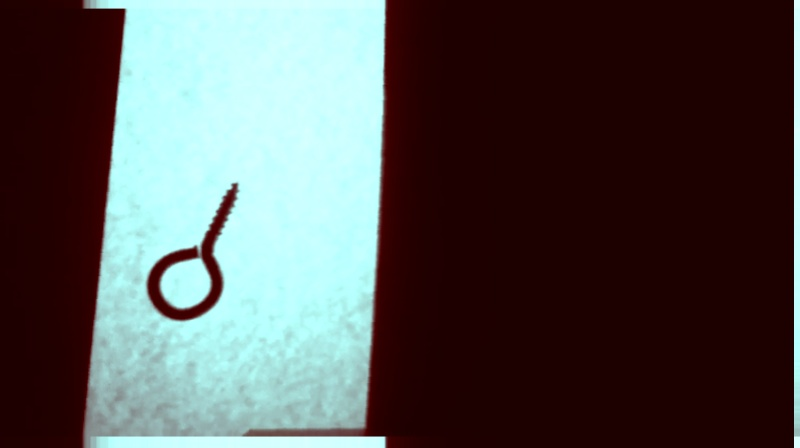O001: (141, 179, 242, 324)
